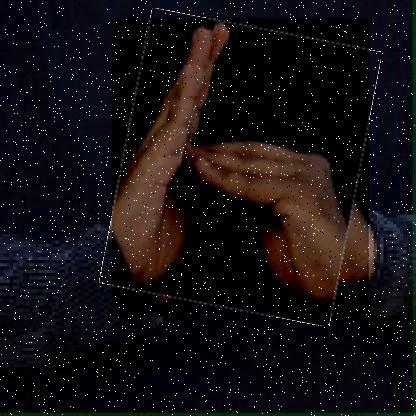Z: (112, 18, 370, 318)
